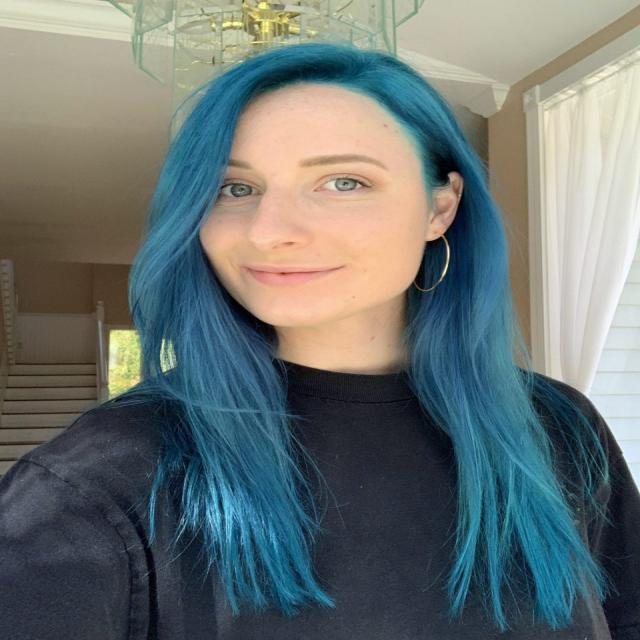Nonhelmet: (134, 25, 506, 349)
